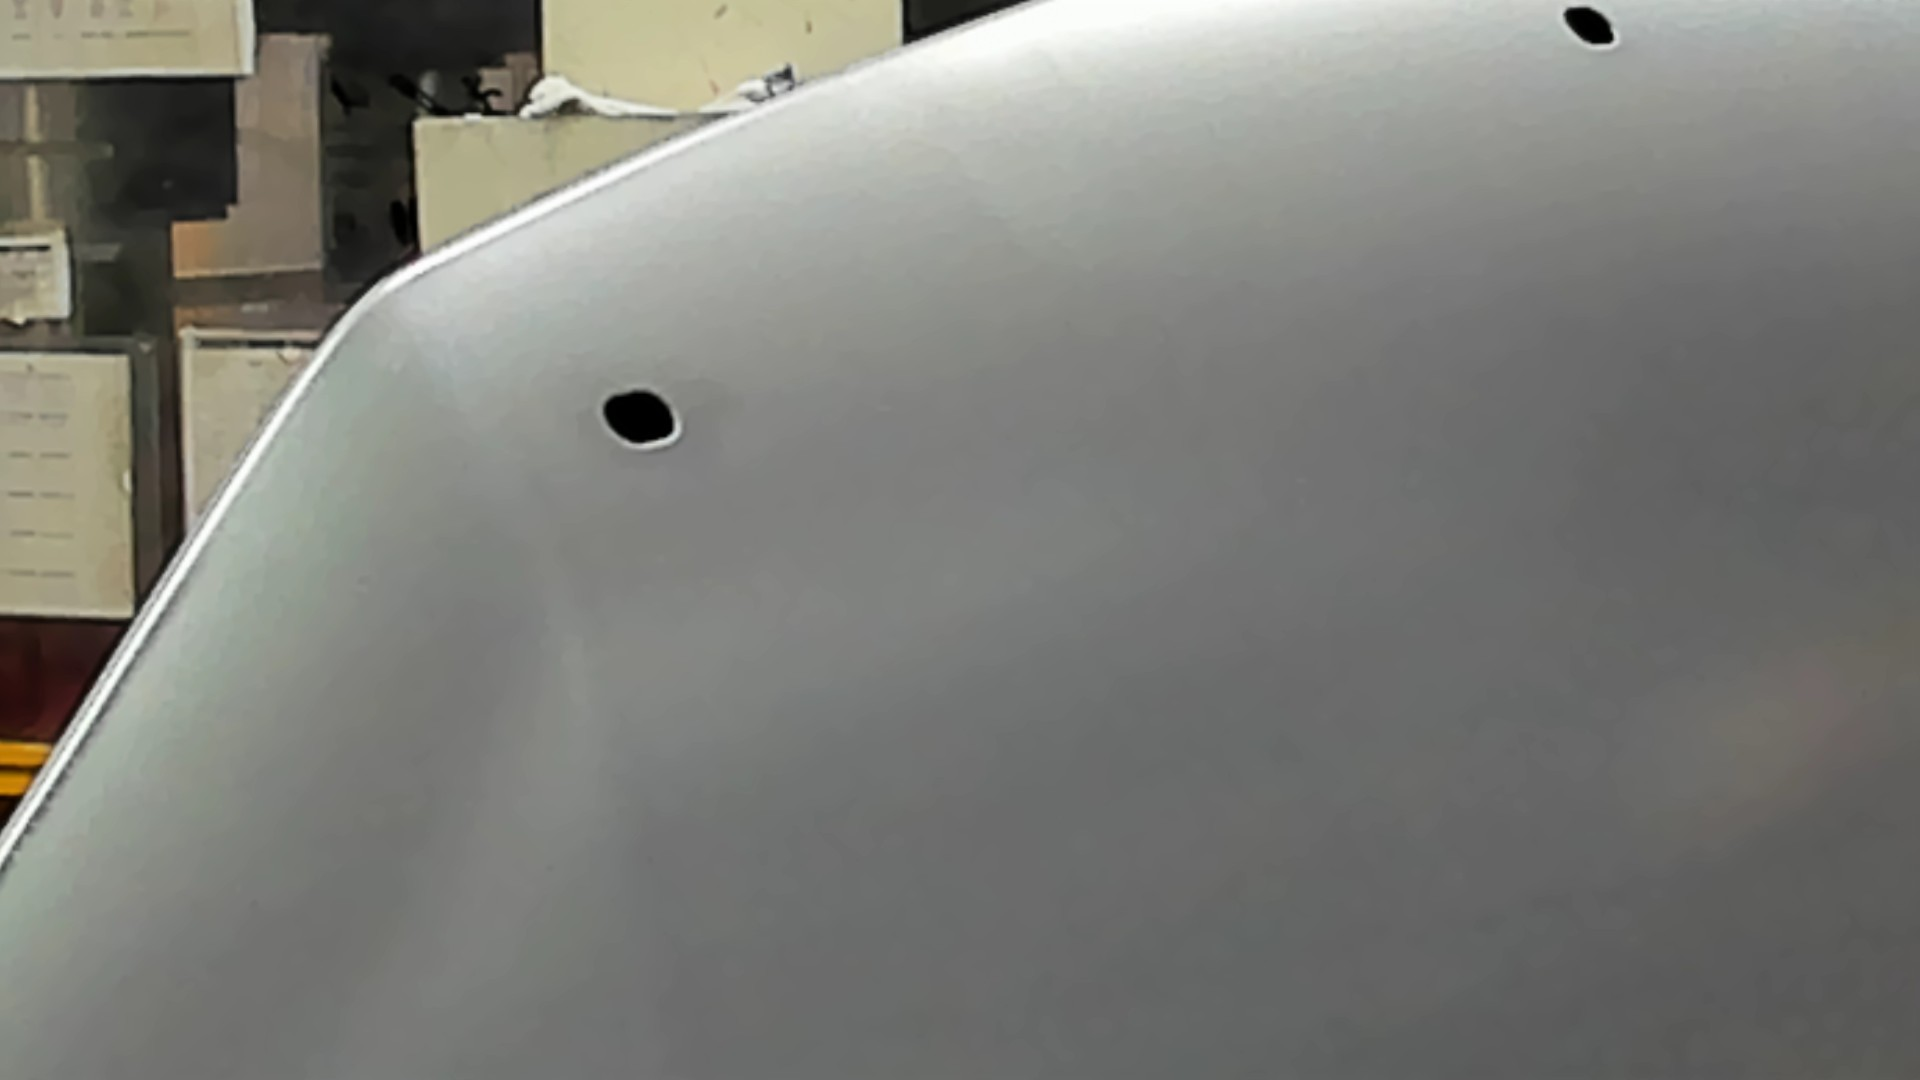amorfo: (593, 382, 694, 455), (1557, 1, 1630, 55)
capo: (796, 133, 1920, 1080)
